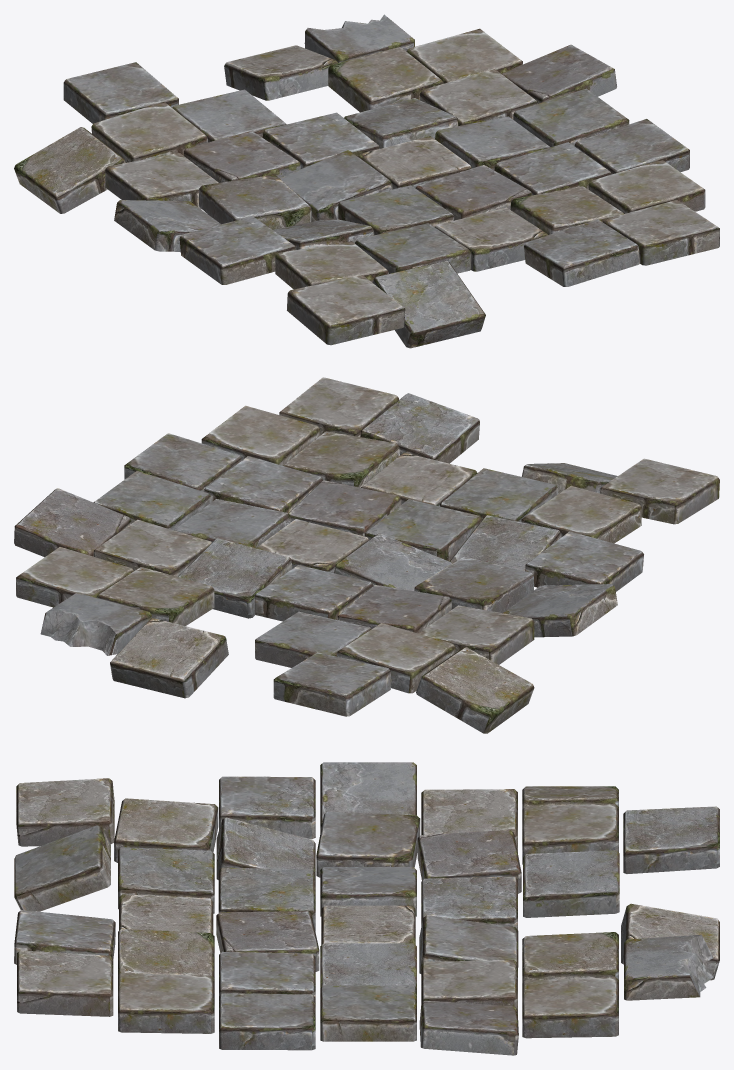
The picture shows the model from 3 angles, top to bottom: view 1: azimuth 30°, elevation 25°; view 2: azimuth 150°, elevation 25°; view 3: azimuth 270°, elevation 25°; orthographic projection. The views are drawn at different scales.
Parts seen in each view (by area): view 1: SM_Greathall_Floor_8x8_Broken_03_LOD0; view 2: SM_Greathall_Floor_8x8_Broken_03_LOD0; view 3: SM_Greathall_Floor_8x8_Broken_03_LOD0.
Boxes of the visible parts, box(x1,y1,x2,y2) form: SM_Greathall_Floor_8x8_Broken_03_LOD0: box(14, 14, 719, 348); SM_Greathall_Floor_8x8_Broken_03_LOD0: box(14, 377, 719, 733); SM_Greathall_Floor_8x8_Broken_03_LOD0: box(14, 762, 719, 1055).
Size of the model in its own units: 6.56 by 0.6729 by 6.99.
1 material, 1 textured.
